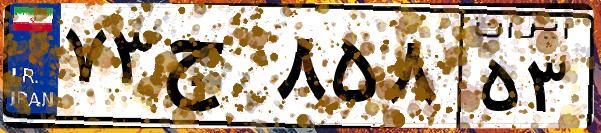3: (525, 38, 570, 115), (110, 28, 158, 98)
5: (330, 28, 385, 110), (475, 38, 525, 113)
7: (57, 26, 110, 100)
8: (270, 28, 330, 110), (385, 28, 445, 110)
ج: (158, 20, 270, 120)
